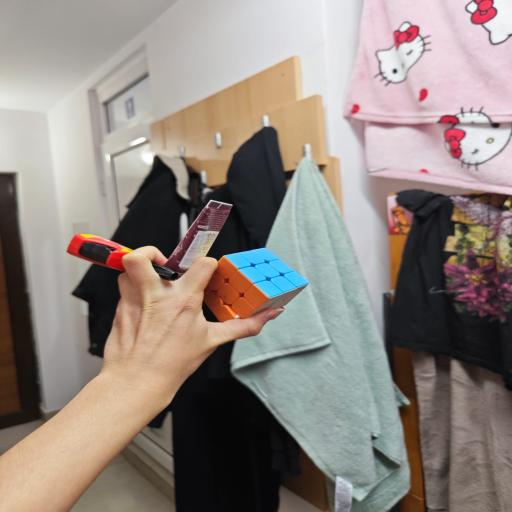Crema Maini: (178, 192, 228, 269)
Rubiks Cube: (206, 250, 311, 332)
Super Glue: (60, 231, 176, 284)
